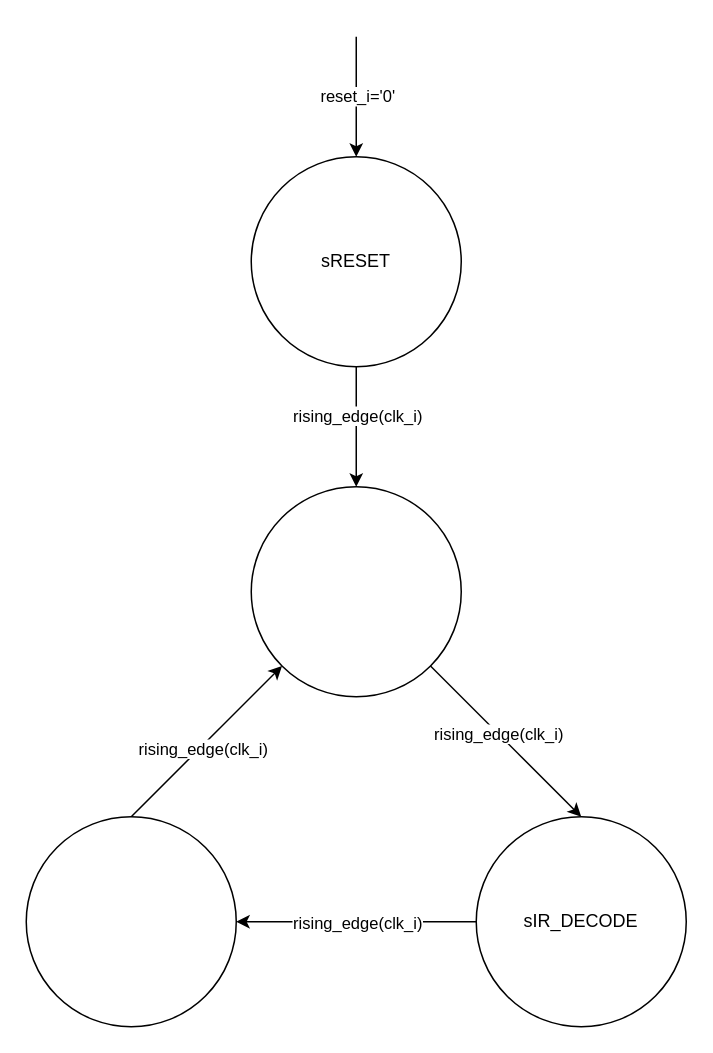
This 713x1053 diagram has some shape labels left out. The centre of each missing label's shape, as x and y in pixels:
sIR_LOAD: point (355, 591)
sOPCODE_DECODE: point (130, 921)
